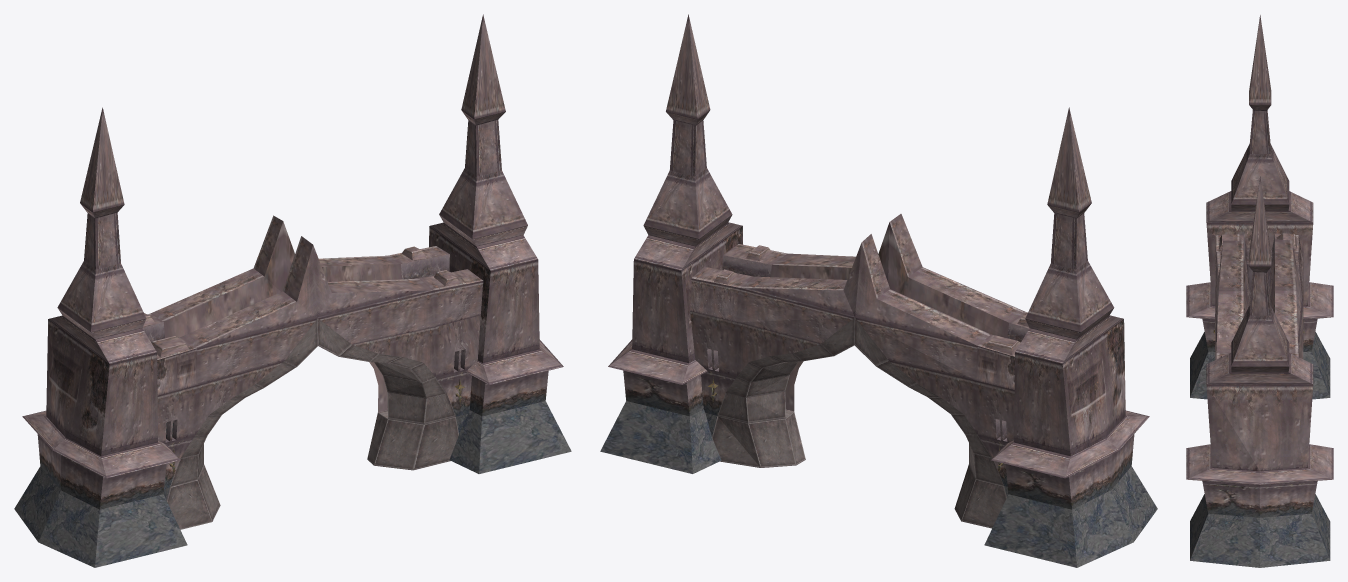
File: C4SMVSTAGARCH.obj
The picture shows the model from 3 angles, left to right: view 1: azimuth 30°, elevation 25°; view 2: azimuth 150°, elevation 25°; view 3: azimuth 270°, elevation 25°; orthographic projection. The views are drawn at different scales.
Parts seen in each view (by area): view 1: Node 0; view 2: Node 0; view 3: Node 0.
Part boxes in pixels (x1=…): Node 0: x1=14, y1=14, x2=571, y2=567; Node 0: x1=600, y1=14, x2=1157, y2=567; Node 0: x1=1186, y1=15, x2=1333, y2=567.
Bounding box in the file's own units: 47.78 × 37.7 × 13.75.
6 materials, 6 textured.
